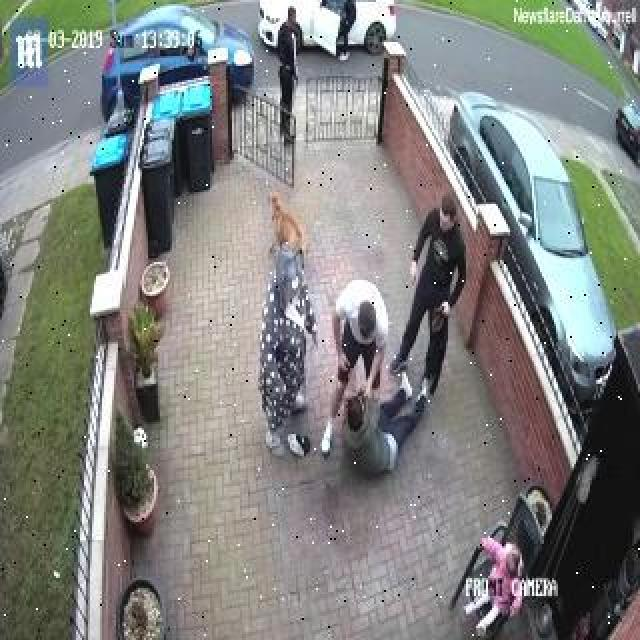fight: (216, 174, 318, 490), (323, 255, 433, 505)
